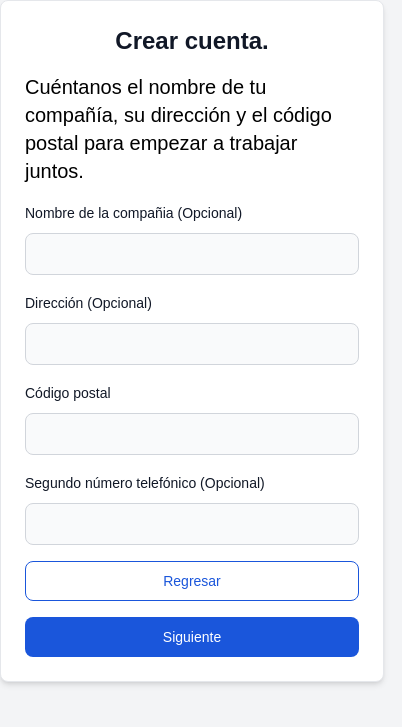
CompanyDetails › shows validation error for postal code with incorrect length (too short)
The width and height of the screenshot is (402, 727).
Type "1234" into the field labelled "Código postal" at (192, 434), box [25,413,359,455]
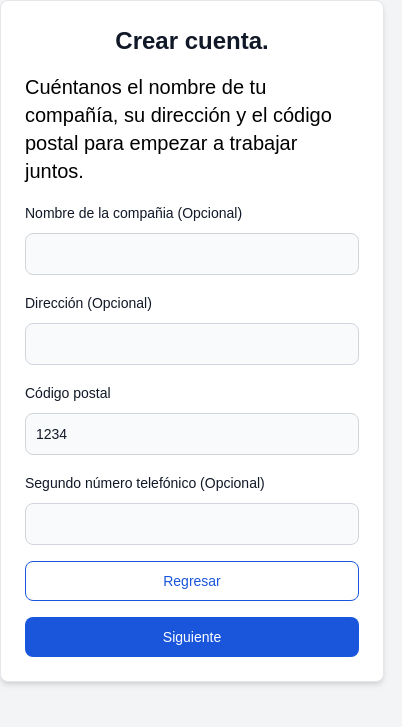
Click the button "Siguiente" at (192, 637), box [25,617,359,657]
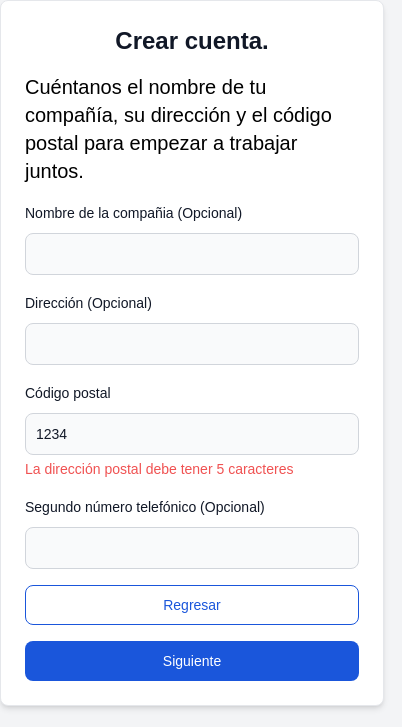
Expected: the text "La dirección postal debe tener 5 caracteres" is shown, [25,461,294,477]
